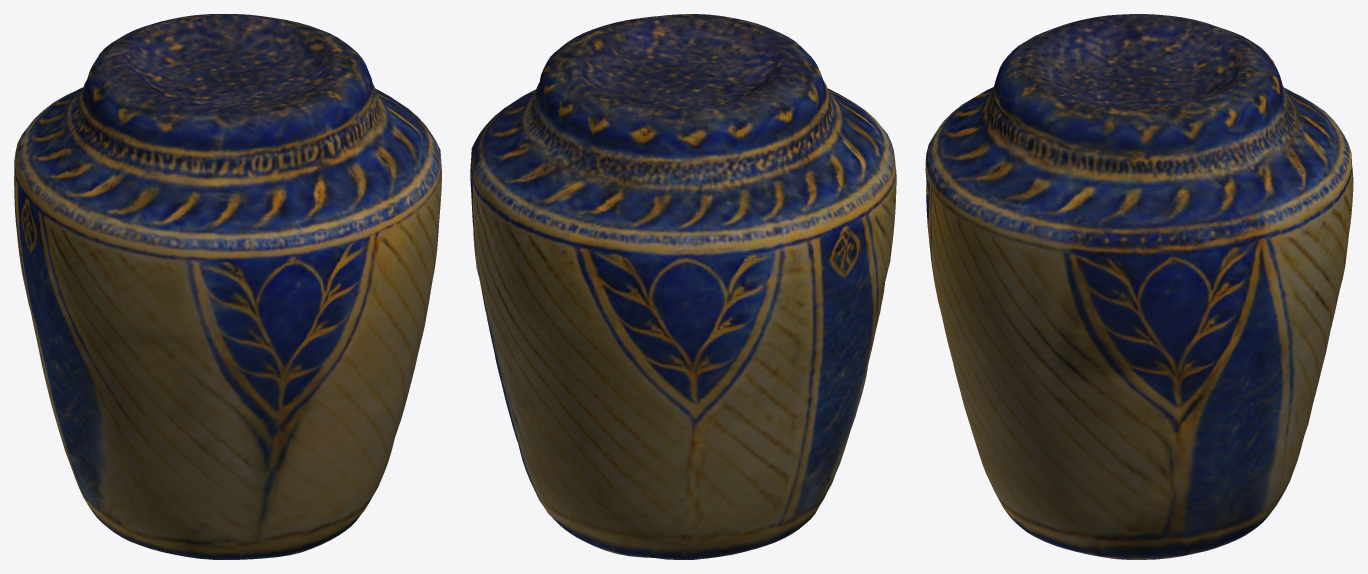
Rendered from 4d93e5dfc6d3_A_canopic_jar_in_da.fbx.
The picture shows the model from 3 angles, left to right: view 1: azimuth 30°, elevation 25°; view 2: azimuth 150°, elevation 25°; view 3: azimuth 270°, elevation 25°; orthographic projection.
Visible parts, largest first — view 1: mesh; view 2: mesh; view 3: mesh.
Boxes of the visible parts, x1,y1,x2,y2 form: mesh: (14,14,441,559); mesh: (470,14,896,559); mesh: (925,14,1353,559).
Bounding box in the file's own units: 87.06 × 99.93 × 87.38.
